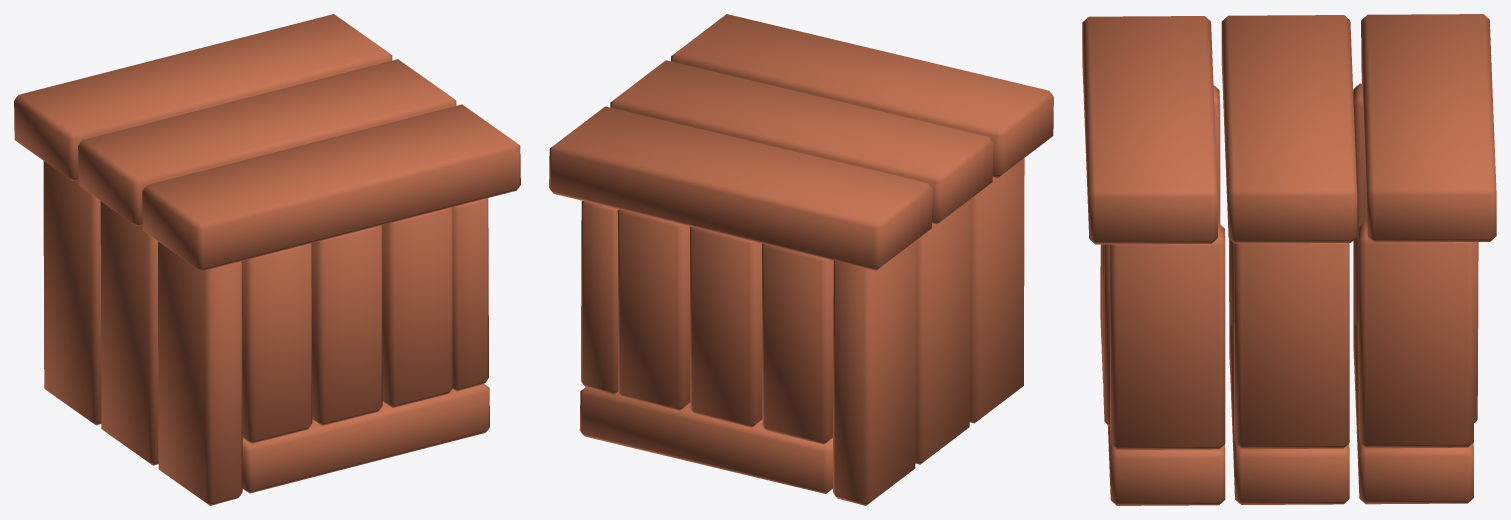
3 renders of one model, left to right at view 1: azimuth 30°, elevation 25°; view 2: azimuth 150°, elevation 25°; view 3: azimuth 270°, elevation 25°, orthographic. The views are drawn at different scales.
Parts seen in each view (by area): view 1: Plane.105; view 2: Plane.105; view 3: Plane.105.
Part boxes in pixels (x1,y1,x2,y2): Plane.105: [14, 14, 520, 505]; Plane.105: [549, 14, 1053, 505]; Plane.105: [1082, 14, 1496, 505].
Size of the model in its own units: 0.8837 by 0.7506 by 0.8497.
